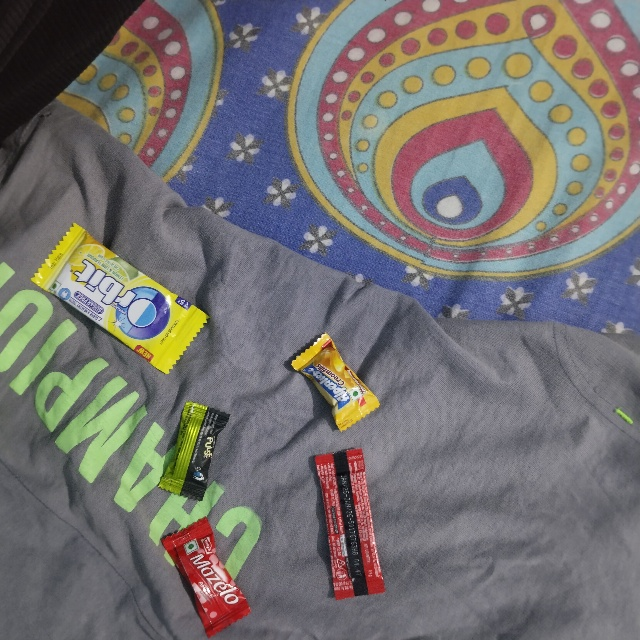Alpenlibe Creamfills: (280, 355, 335, 462)
Mazelo: (155, 540, 216, 640)
Nescafe Coffee: (310, 452, 366, 603)
Orbit: (73, 218, 242, 297)
Pulse: (182, 393, 235, 495)
